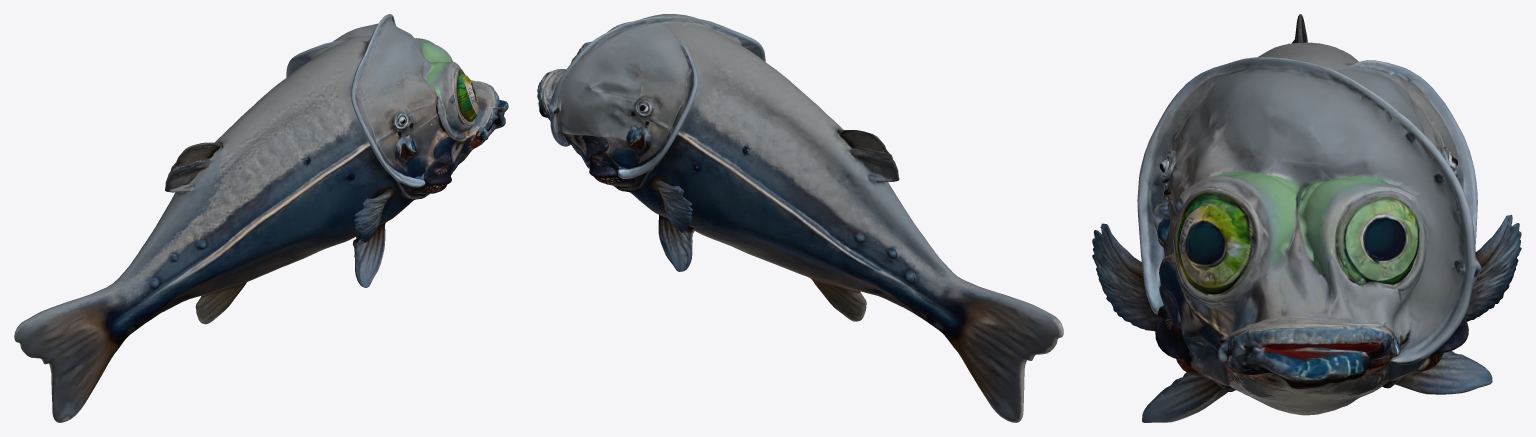
Rendered from barreleye.glb.
3 views of the same model, side by side, from view 1: azimuth 30°, elevation 25°; view 2: azimuth 150°, elevation 25°; view 3: azimuth 270°, elevation 25° (orthographic). The views are drawn at different scales.
Parts seen in each view (by area): view 1: tripo_node_ee1b108c-4d41-41be-b594-1edf0cc735cb; view 2: tripo_node_ee1b108c-4d41-41be-b594-1edf0cc735cb; view 3: tripo_node_ee1b108c-4d41-41be-b594-1edf0cc735cb.
Part boxes in pixels (<box>): tripo_node_ee1b108c-4d41-41be-b594-1edf0cc735cb: <box>14,14,508,422</box>; tripo_node_ee1b108c-4d41-41be-b594-1edf0cc735cb: <box>537,14,1063,422</box>; tripo_node_ee1b108c-4d41-41be-b594-1edf0cc735cb: <box>1092,14,1521,422</box>.
Size of the model in its own units: 0.981 by 0.5901 by 0.3847.
Materials: 1 (1 with a texture image).
